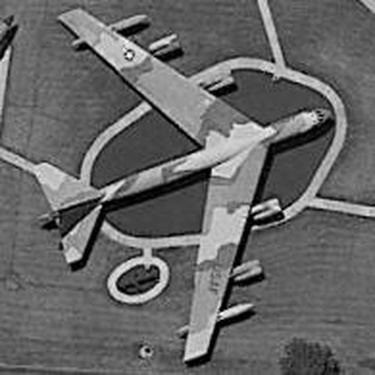airplane: (27, 3, 342, 369)
